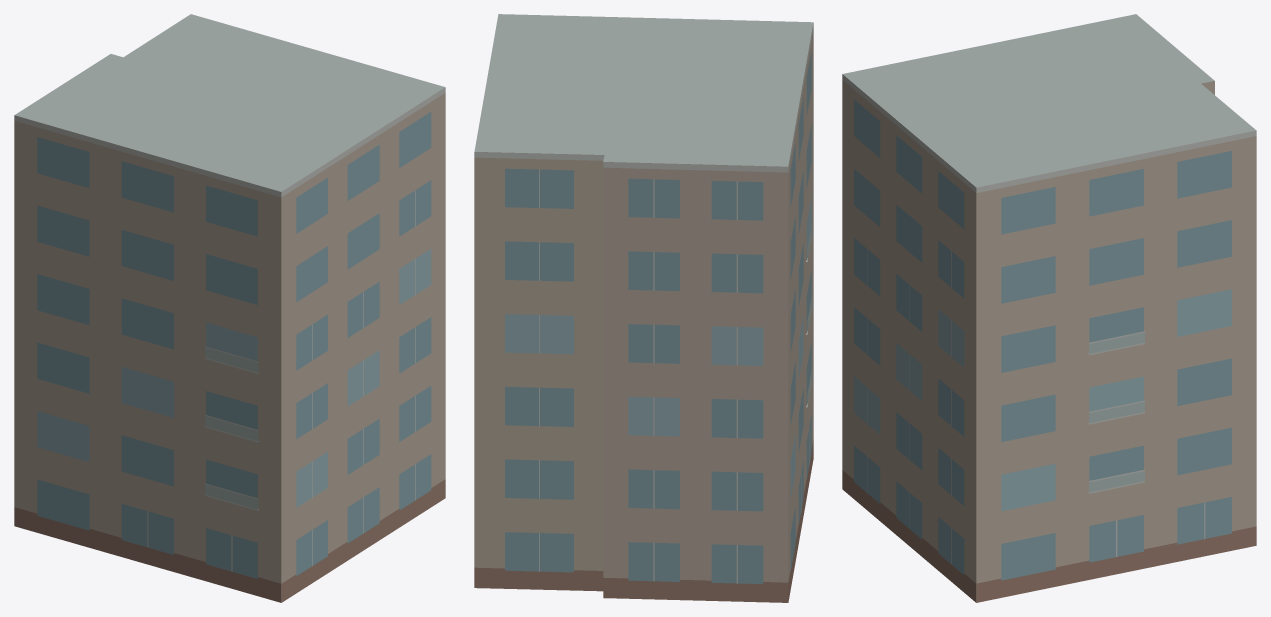
The model's file is survey-upis-32908565.glb.
The picture shows the model from 3 angles, left to right: view 1: azimuth 30°, elevation 25°; view 2: azimuth 150°, elevation 25°; view 3: azimuth 270°, elevation 25°; orthographic projection. The views are drawn at different scales.
Visible parts, largest first — view 1: survey-upis-32908565.tmp; view 2: survey-upis-32908565.tmp; view 3: survey-upis-32908565.tmp.
Part boxes in pixels (x1,y1,x2,y2): survey-upis-32908565.tmp: [14, 14, 445, 602]; survey-upis-32908565.tmp: [474, 14, 813, 602]; survey-upis-32908565.tmp: [842, 14, 1256, 602].
Size of the model in its own units: 16.42 by 18.3 by 16.55.
